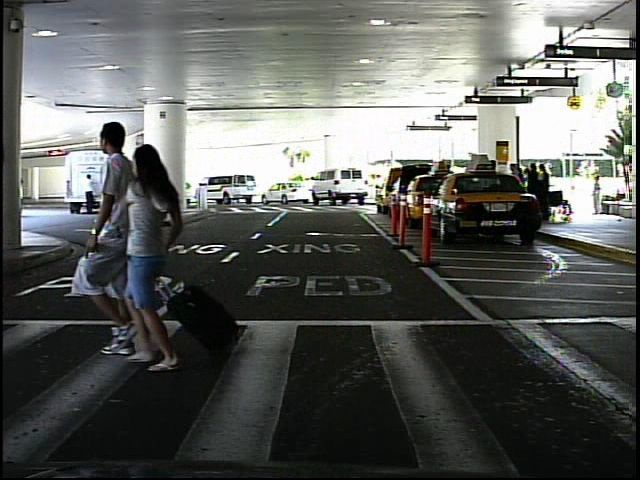person: (124, 133, 200, 377), (83, 117, 146, 364), (81, 170, 99, 220), (589, 172, 606, 218)
